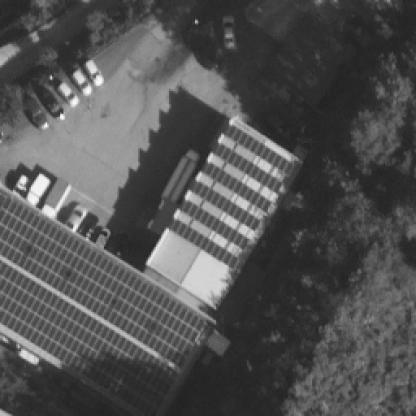solar-pv-panel: (0, 186, 206, 369), (0, 262, 175, 416), (180, 198, 249, 250), (225, 124, 294, 175), (169, 218, 239, 268), (211, 143, 282, 192), (203, 162, 271, 213), (192, 181, 258, 231)
